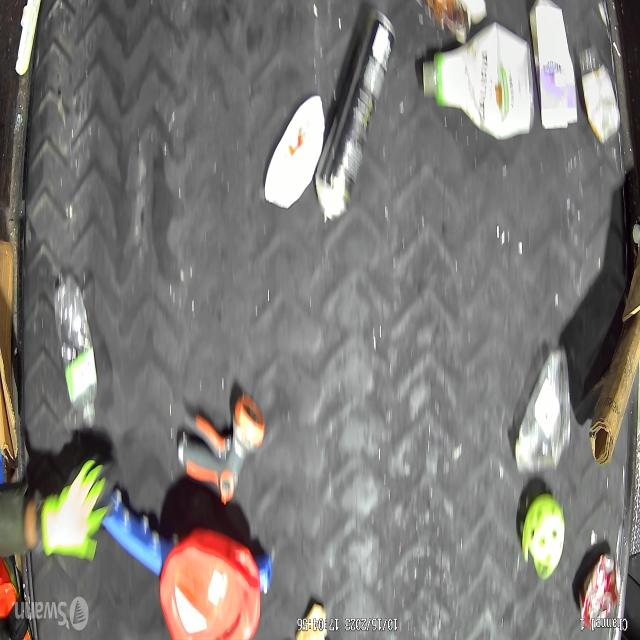can: (317, 9, 397, 222), (574, 558, 625, 636)
non_white_jug: (162, 551, 260, 640)
plastic_bottle: (510, 334, 575, 475), (48, 264, 98, 428)
